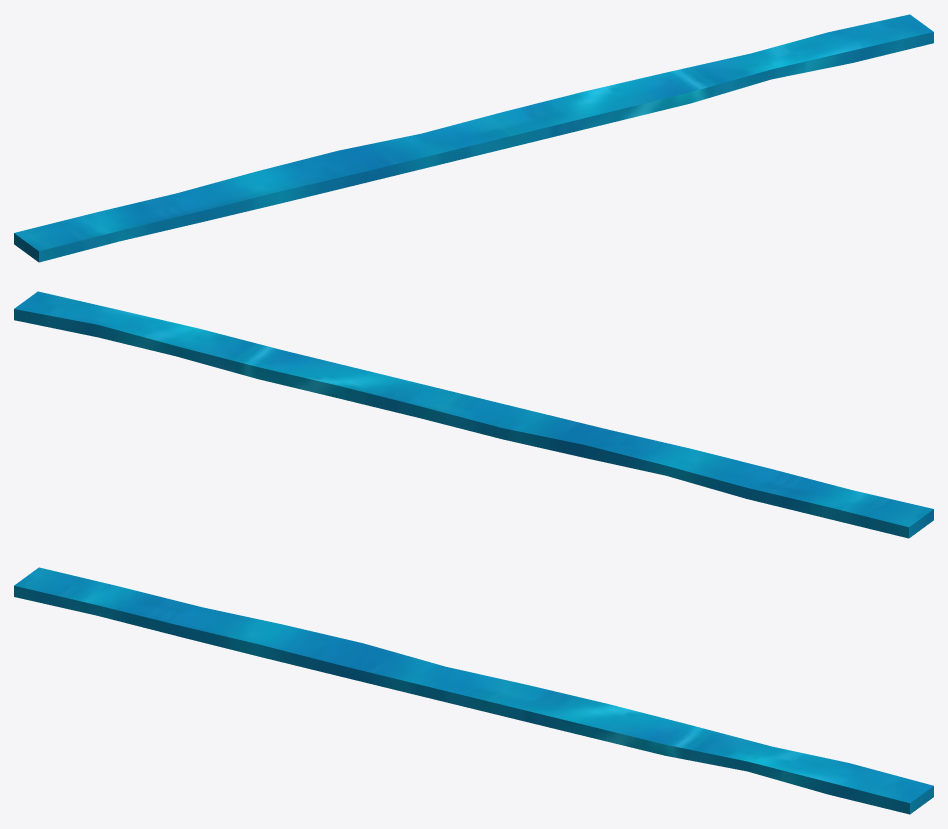
File: River.fbx
3 views of the same model, one above another, from view 1: azimuth 30°, elevation 25°; view 2: azimuth 150°, elevation 25°; view 3: azimuth 330°, elevation 25° (orthographic).
Parts seen in each view (by area): view 1: River; view 2: River; view 3: River.
Boxes of the visible parts, x1,y1,x2,y2 form: River: (14,14,933,262); River: (14,291,933,538); River: (14,567,933,814).
Bounding box in the file's own units: 16648 × 289 × 804.
